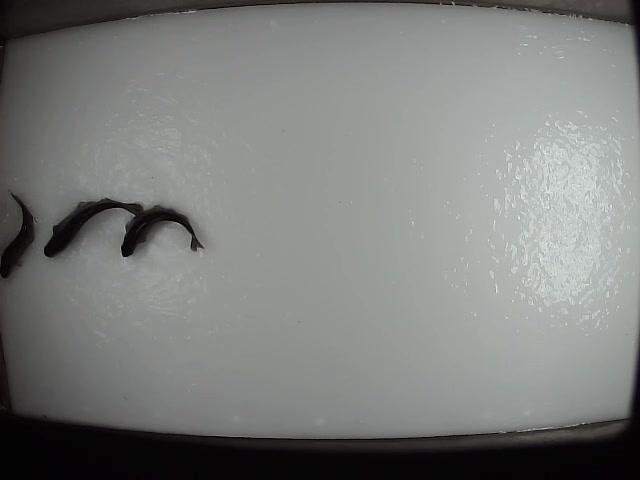fish: (38, 193, 146, 260), (116, 203, 205, 258), (1, 185, 38, 282)
